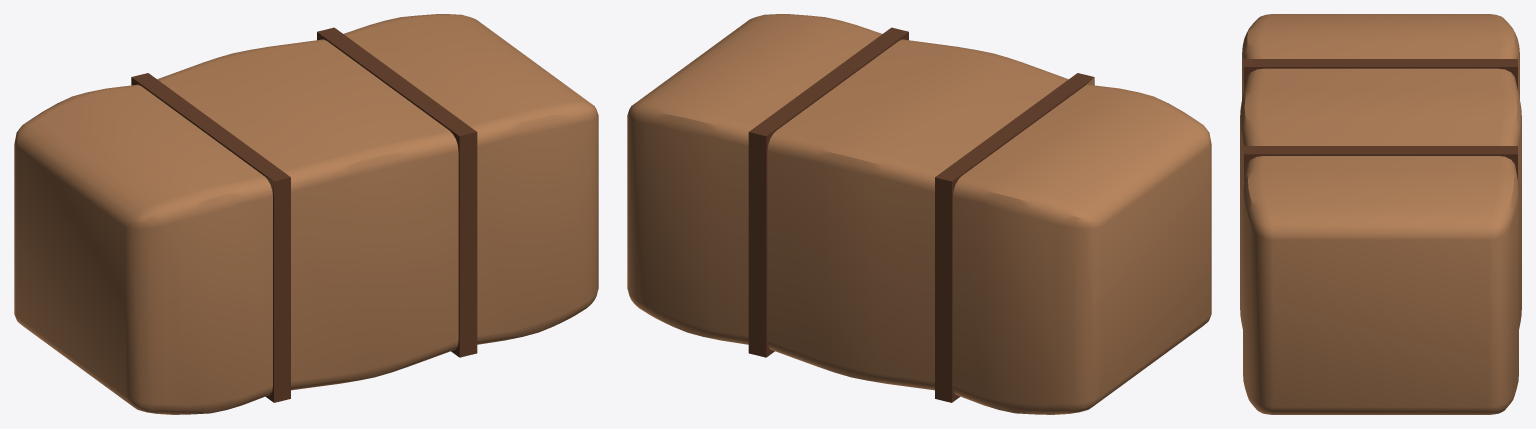
The model's file is Fieno.fbx.
The picture shows the model from 3 angles, left to right: view 1: azimuth 30°, elevation 25°; view 2: azimuth 150°, elevation 25°; view 3: azimuth 270°, elevation 25°; orthographic projection. The views are drawn at different scales.
Parts seen in each view (by area): view 1: Cube; view 2: Cube; view 3: Cube.
Boxes of the visible parts, box(x1,y1,x2,y2) form: Cube: box(14, 14, 598, 414); Cube: box(627, 14, 1211, 414); Cube: box(1240, 14, 1521, 414).
Bounding box in the file's own units: 207 × 95.81 × 112.
